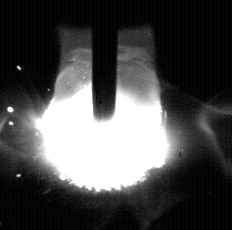arame: (93, 0, 118, 121)
poca: (42, 0, 169, 230)
